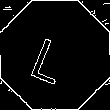L_N: (31, 26, 79, 84)
